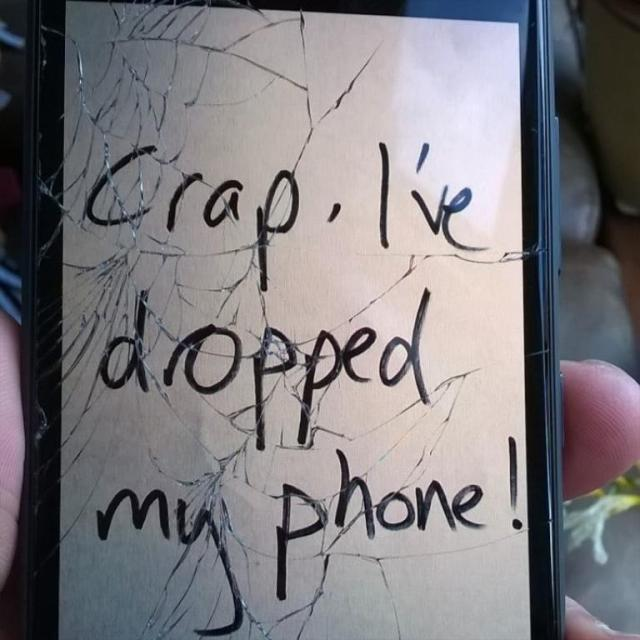Mobile-phone: (28, 0, 569, 639)
